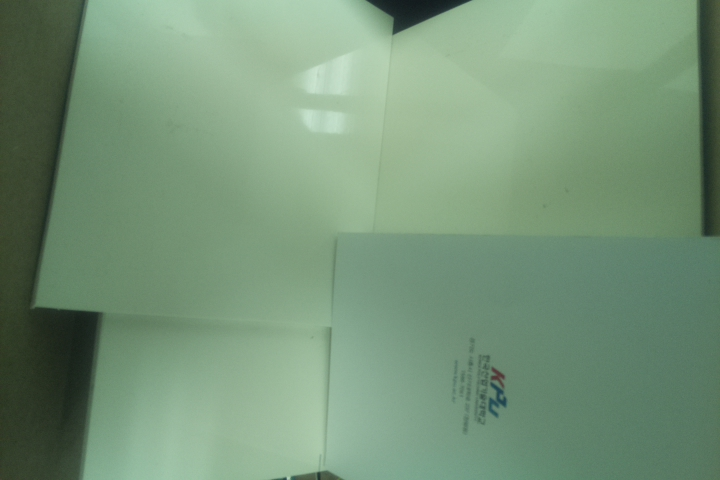book: (321, 230, 720, 479)
